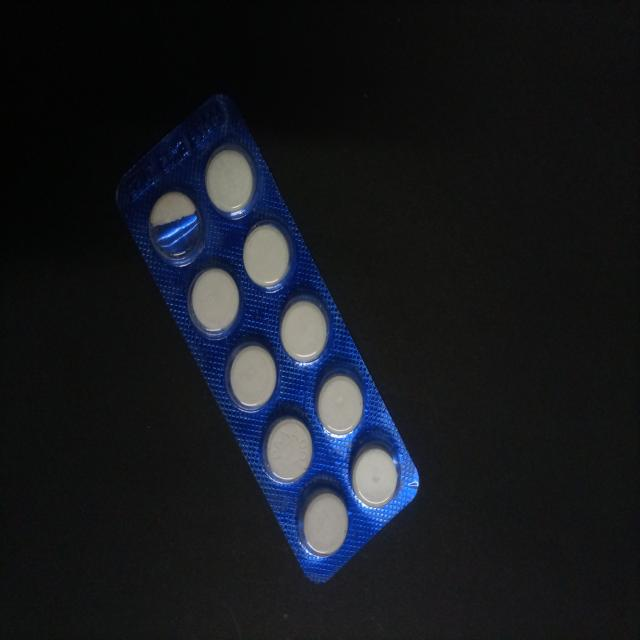defect: (146, 188, 208, 272)
